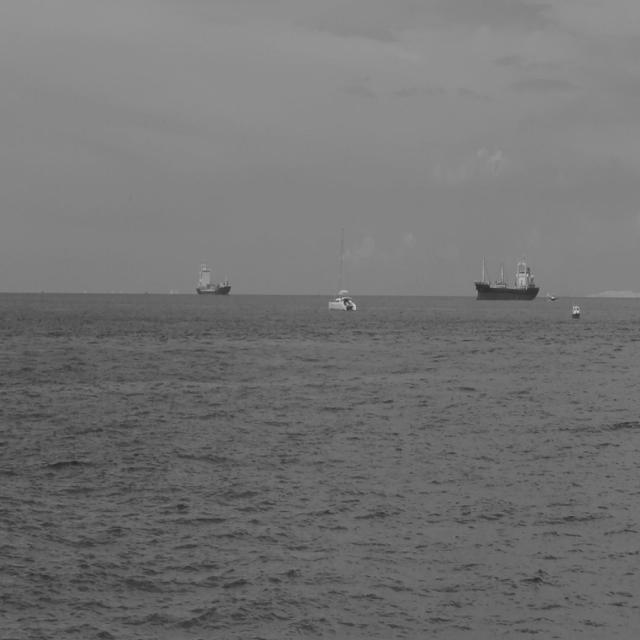ship: (472, 250, 541, 302), (327, 222, 358, 314), (195, 259, 232, 298), (570, 302, 582, 321), (550, 292, 557, 302)
